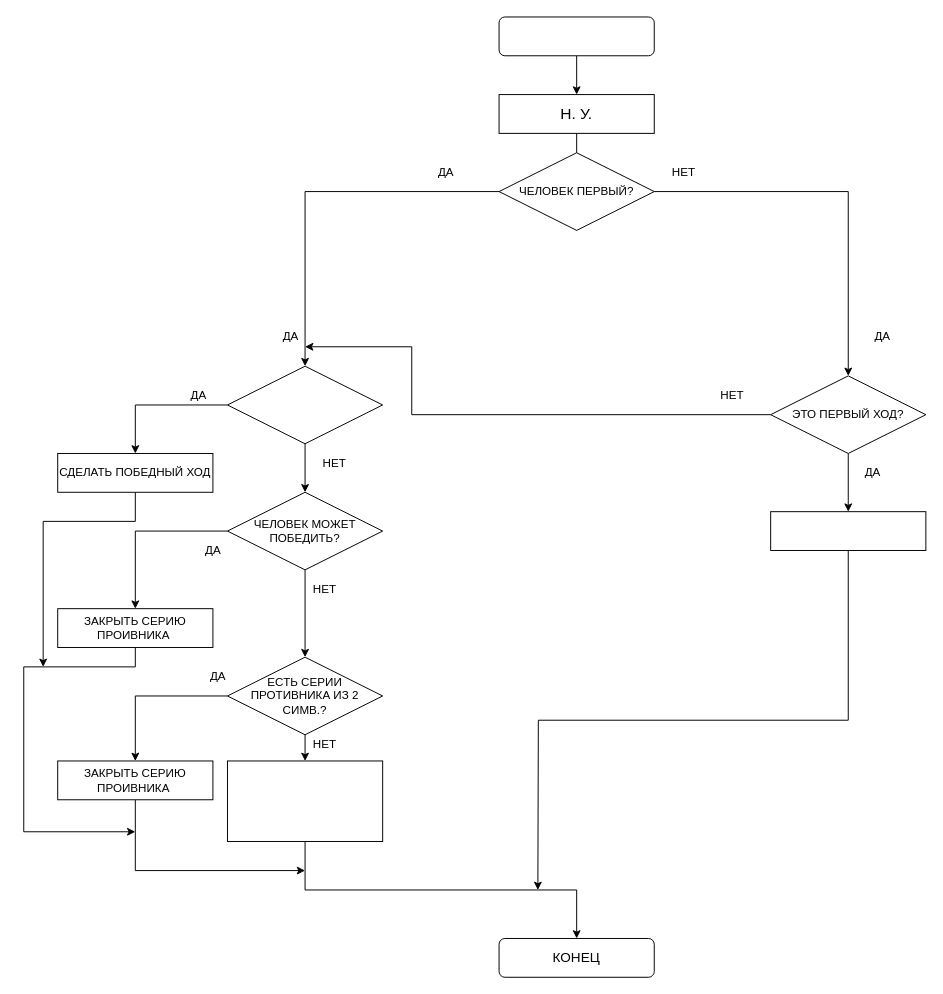
This 943x994 diagram has some shape labels left out. The shapes that lost their labels are listed below. From the top down, each one's box as (x1, y1, x2, y2) in pixels, then its label:
(498, 16, 654, 56): НАЧАЛО
(226, 365, 383, 444): БОТ МОЖЕТ ПОБЕДИТЬ?
(770, 511, 926, 550): СДЕЛАТЬ ХОД В ЛЕВЫЙ ВЕРХНИЙ УГОЛ
(226, 760, 383, 841): ПОСТАВИТЬ СВОЙ СИМВОЛ РЯДОМ С ПЕРВЫМ ПОПАВШИМСЯ СИМВОЛОМ ПРОТИВНИКА
